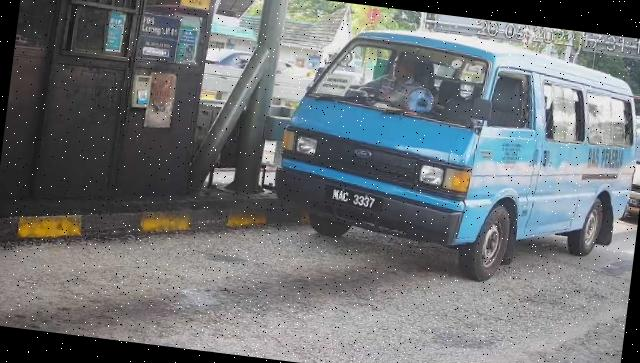License_Plate: (323, 184, 386, 217)
van: (267, 15, 640, 298)
